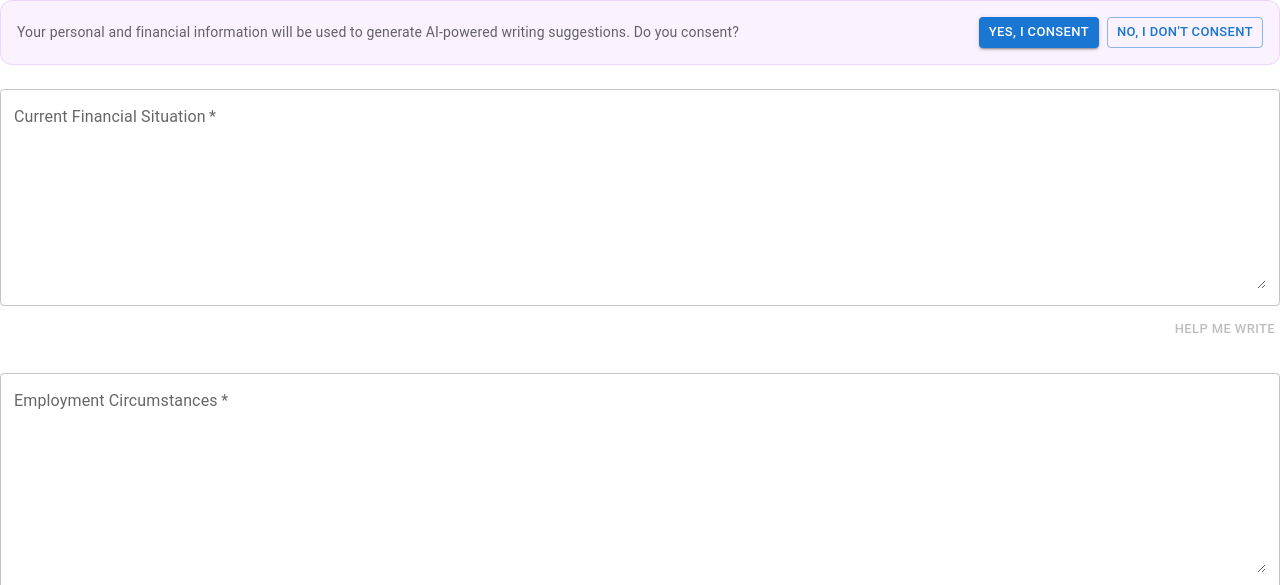
Test: StepSituation AI suggestions › applies an accepted suggestion to the matching field
Click the button "Yes, I consent" at {"x": 1039, "y": 32}, box left=979, top=17, right=1099, bottom=48
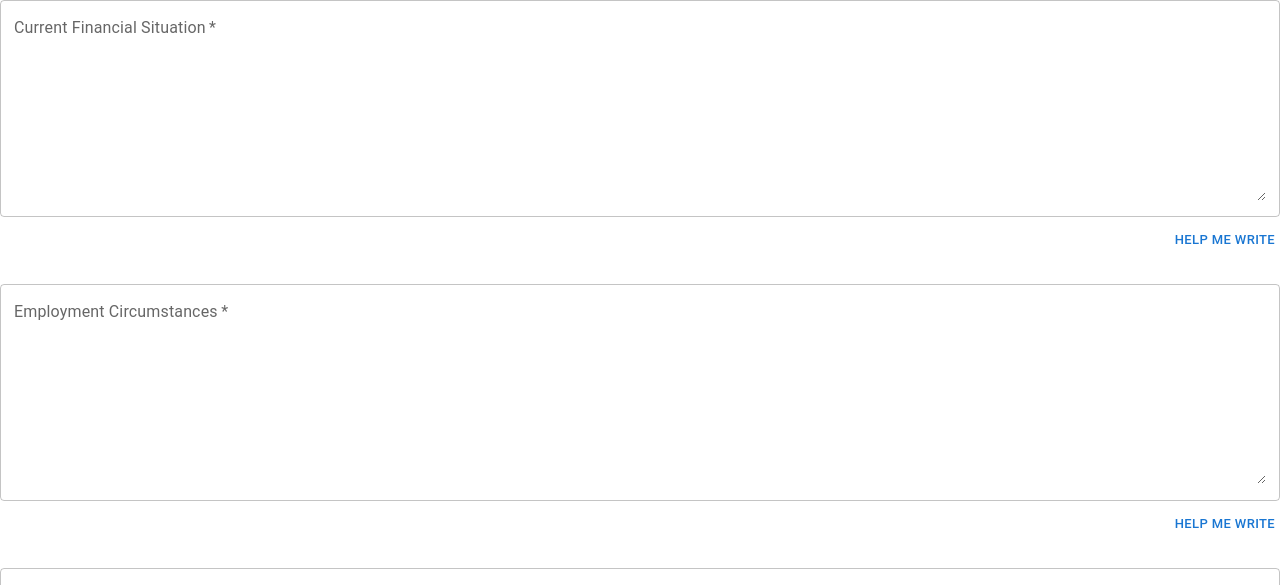
Click the 1st button "Help me write" at {"x": 1225, "y": 240}, box left=1170, top=225, right=1279, bottom=256
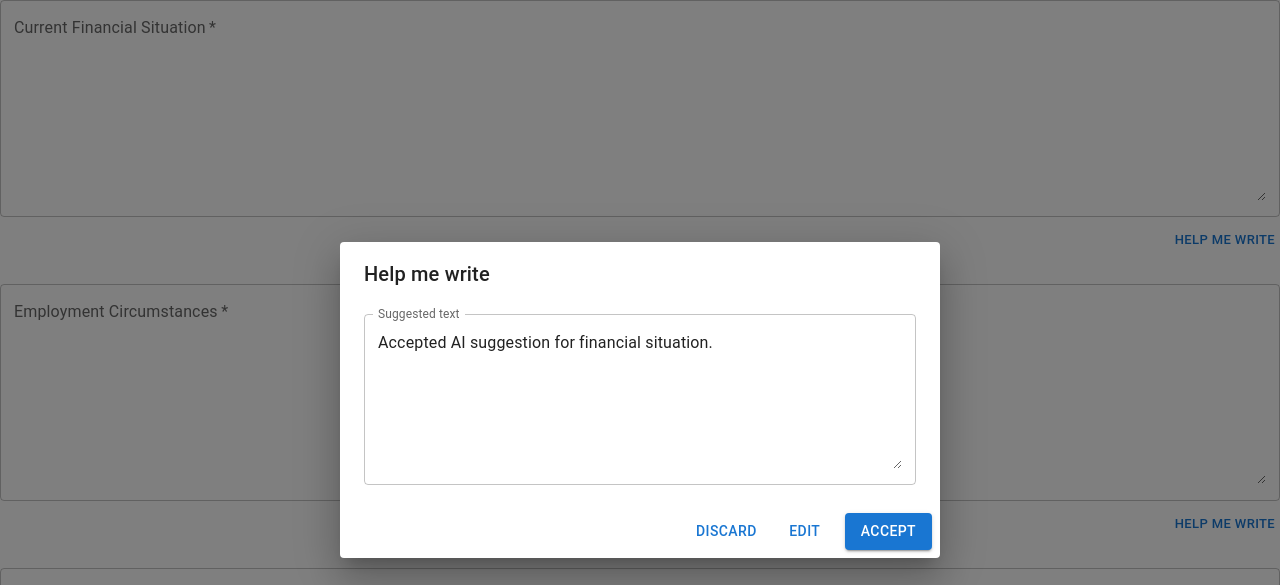
Expected: the text box labelled "Suggested text" is shown, left=378, top=331, right=902, bottom=469
Click the button "Accept" at {"x": 888, "y": 532}, box left=845, top=513, right=932, bottom=550
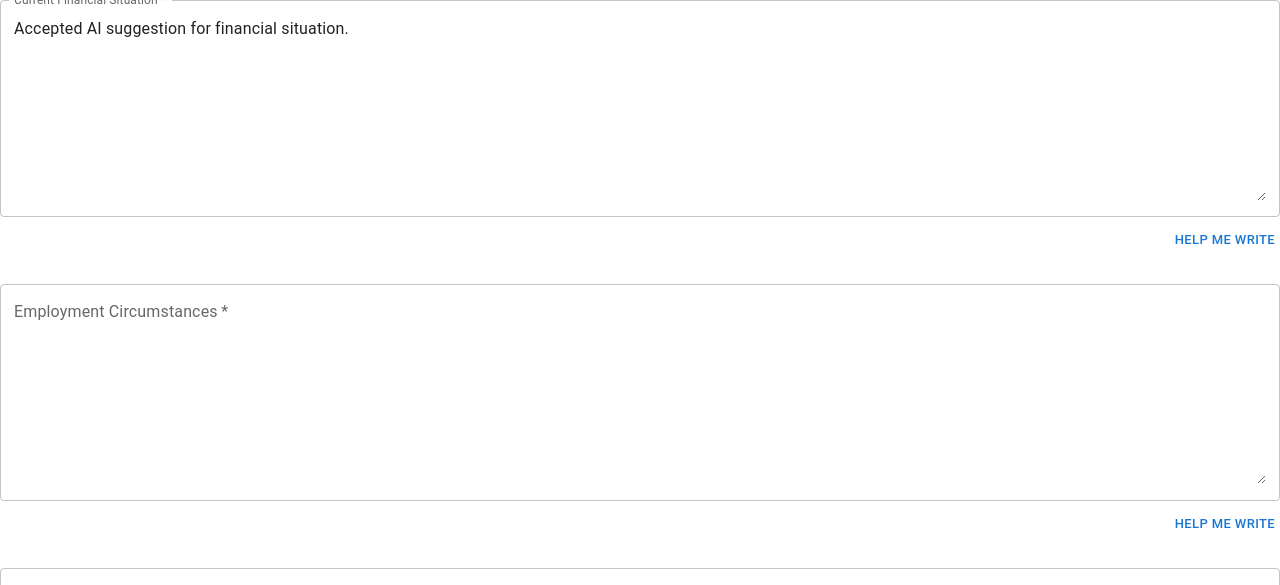
Expected: the text box labelled "Current Financial Situation *" holds "Accepted AI suggestion for financial situation.", left=14, top=16, right=1266, bottom=200
Expected: the label labelled "Suggested text" is gone
